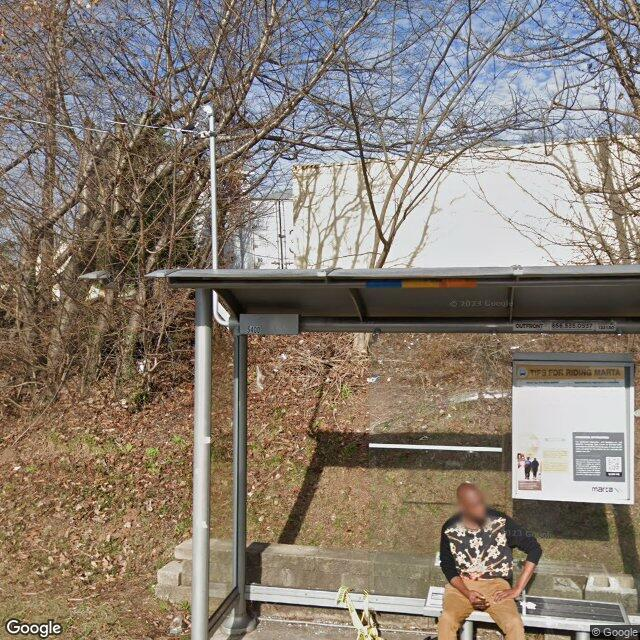seating: (421, 586, 638, 640)
shelter: (156, 260, 640, 640)
